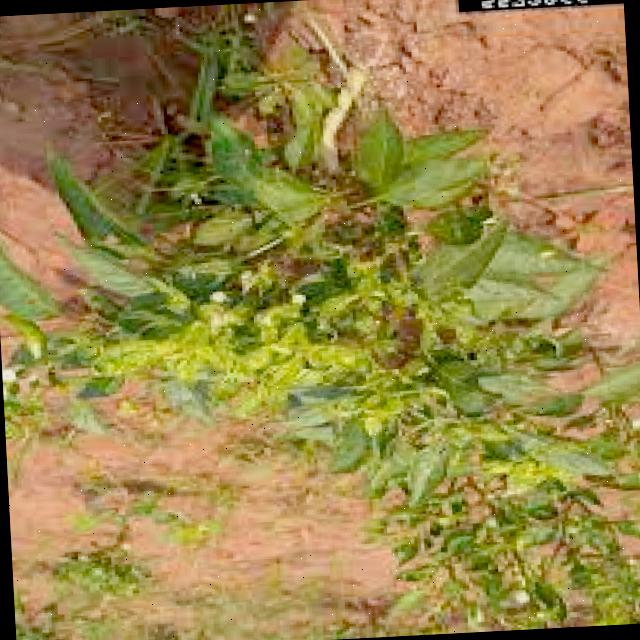leaf curl: (72, 65, 588, 494)
